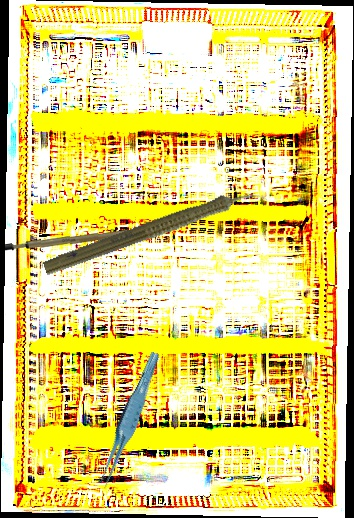Handpiece: (41, 178, 269, 285)
Scalpel Handle: (4, 222, 164, 259)
Tissue Forceps: (87, 350, 170, 491)
